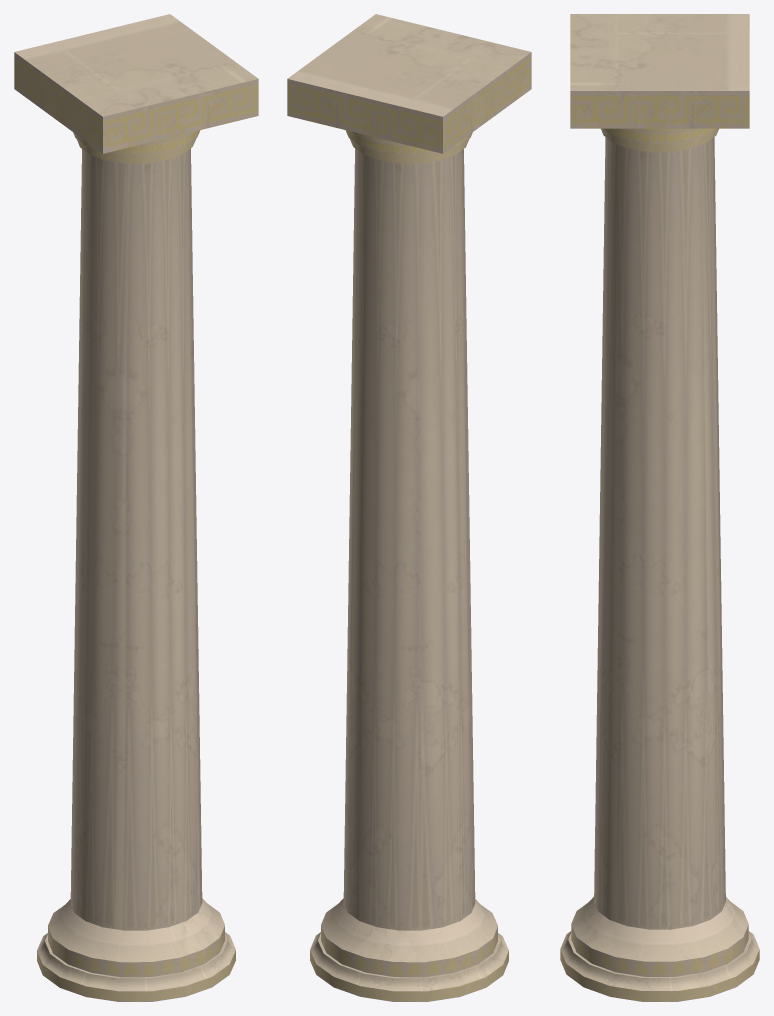
File: SM_temple_column.glb
The picture shows the model from 3 angles, left to right: view 1: azimuth 30°, elevation 25°; view 2: azimuth 150°, elevation 25°; view 3: azimuth 270°, elevation 25°; orthographic projection.
Visible parts, largest first — view 1: SM_temple_column; view 2: SM_temple_column; view 3: SM_temple_column.
Boxes of the visible parts, box(x1,y1,x2,y2) form: SM_temple_column: box(14, 14, 258, 1001); SM_temple_column: box(287, 14, 531, 1001); SM_temple_column: box(560, 14, 759, 1001).
Bounding box in the file's own units: 2.6 × 13.04 × 2.6.
1 material, 1 textured.
